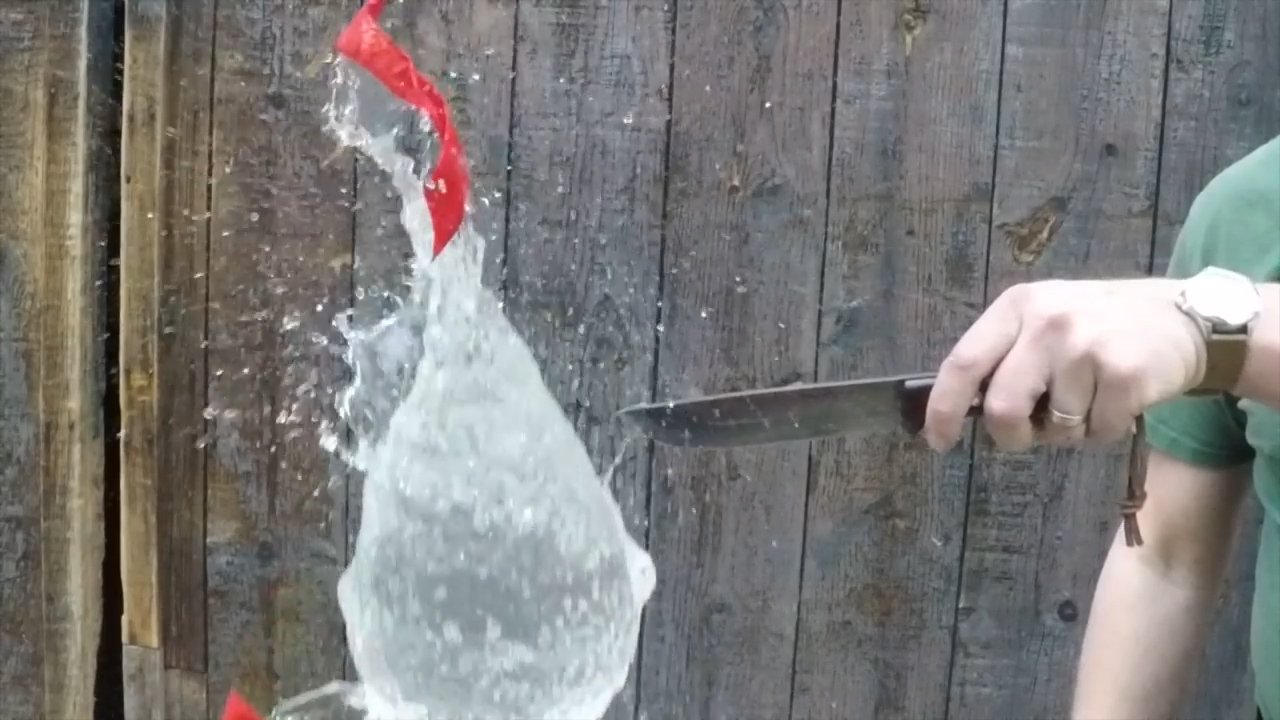knife: (602, 264, 1089, 467)
